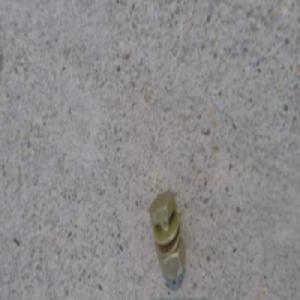BoltNutSet: (147, 186, 184, 277)
